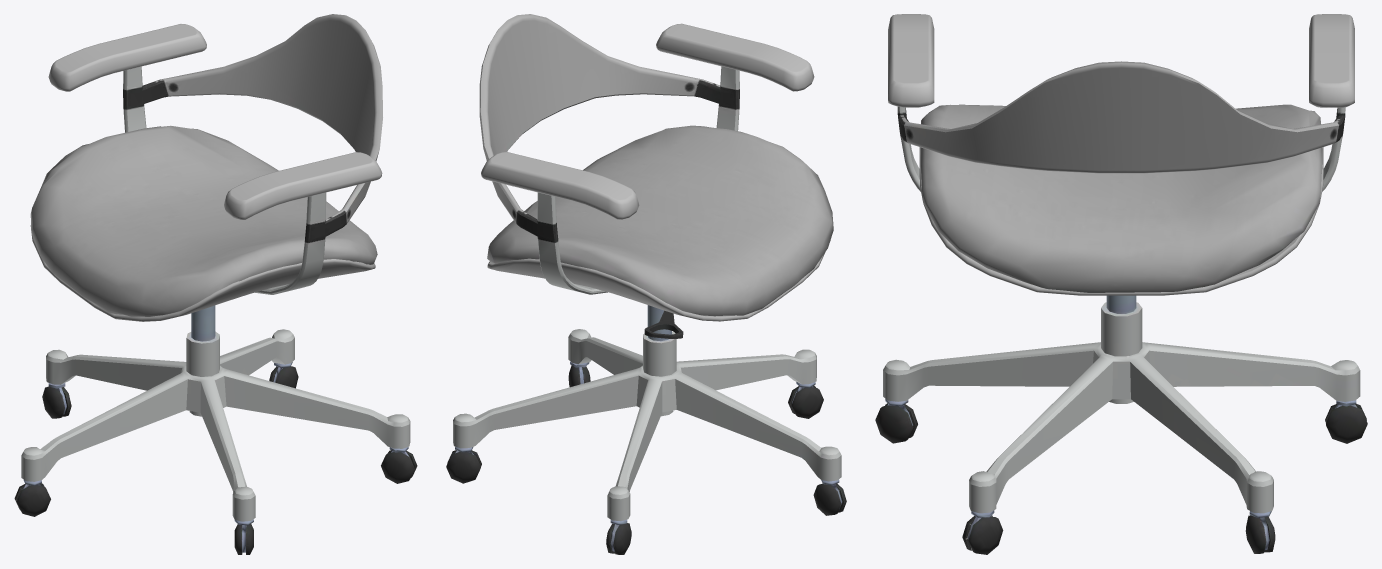
The model's file is chair.51ac6de9.glb.
The picture shows the model from 3 angles, left to right: view 1: azimuth 30°, elevation 25°; view 2: azimuth 150°, elevation 25°; view 3: azimuth 270°, elevation 25°; orthographic projection. The views are drawn at different scales.
Parts seen in each view (by area): view 1: seat, gas_lift; view 2: seat, gas_lift; view 3: seat, gas_lift.
Part boxes in pixels (x1,y1,x2,y2): seat: [30, 14, 382, 321]; gas_lift: [14, 305, 417, 554]; seat: [479, 14, 833, 338]; gas_lift: [446, 305, 846, 554]; seat: [888, 14, 1354, 295]; gas_lift: [875, 295, 1367, 554].
Size of the model in its own units: 0.6249 by 0.7285 by 0.6523.
1 material, 1 textured.
